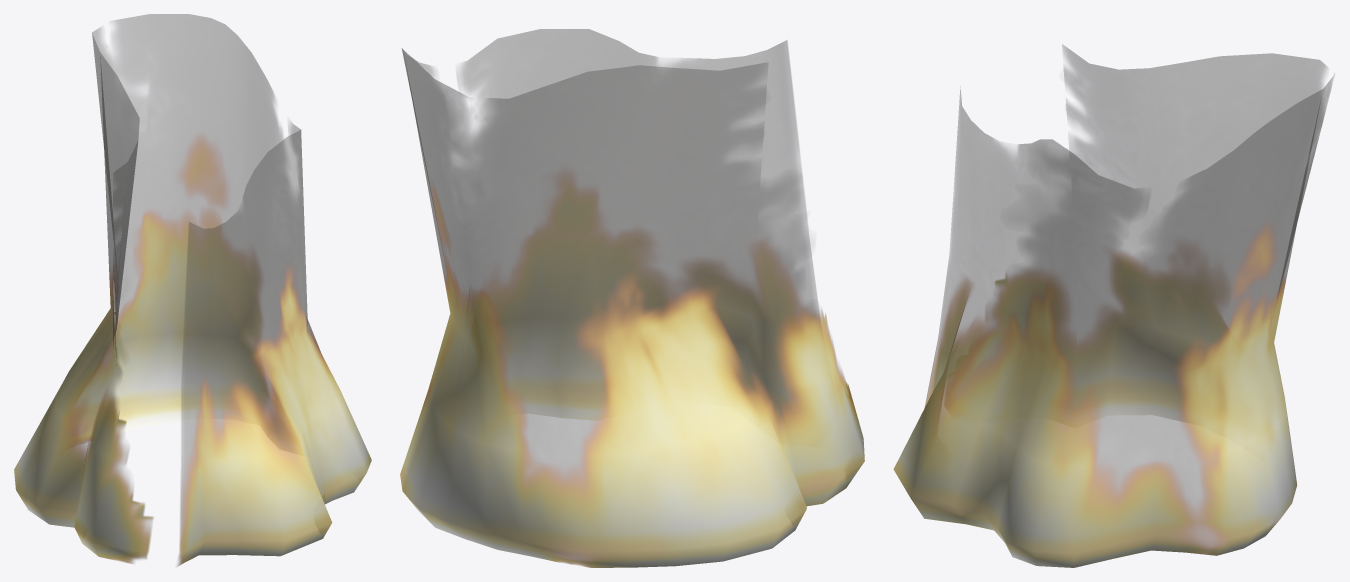
The model's file is WF_Fire.glb.
3 renders of one model, left to right at view 1: azimuth 30°, elevation 25°; view 2: azimuth 150°, elevation 25°; view 3: azimuth 270°, elevation 25°, orthographic. The views are drawn at different scales.
Parts seen in each view (by area): view 1: CampFire.001; view 2: CampFire.001; view 3: CampFire.001.
Boxes of the visible parts, <box> form: CampFire.001: <box>14,14,371,566</box>; CampFire.001: <box>400,29,864,567</box>; CampFire.001: <box>893,44,1334,567</box>.
Size of the model in its own units: 0.1871 by 0.2312 by 0.2125.
1 material, 1 textured.
